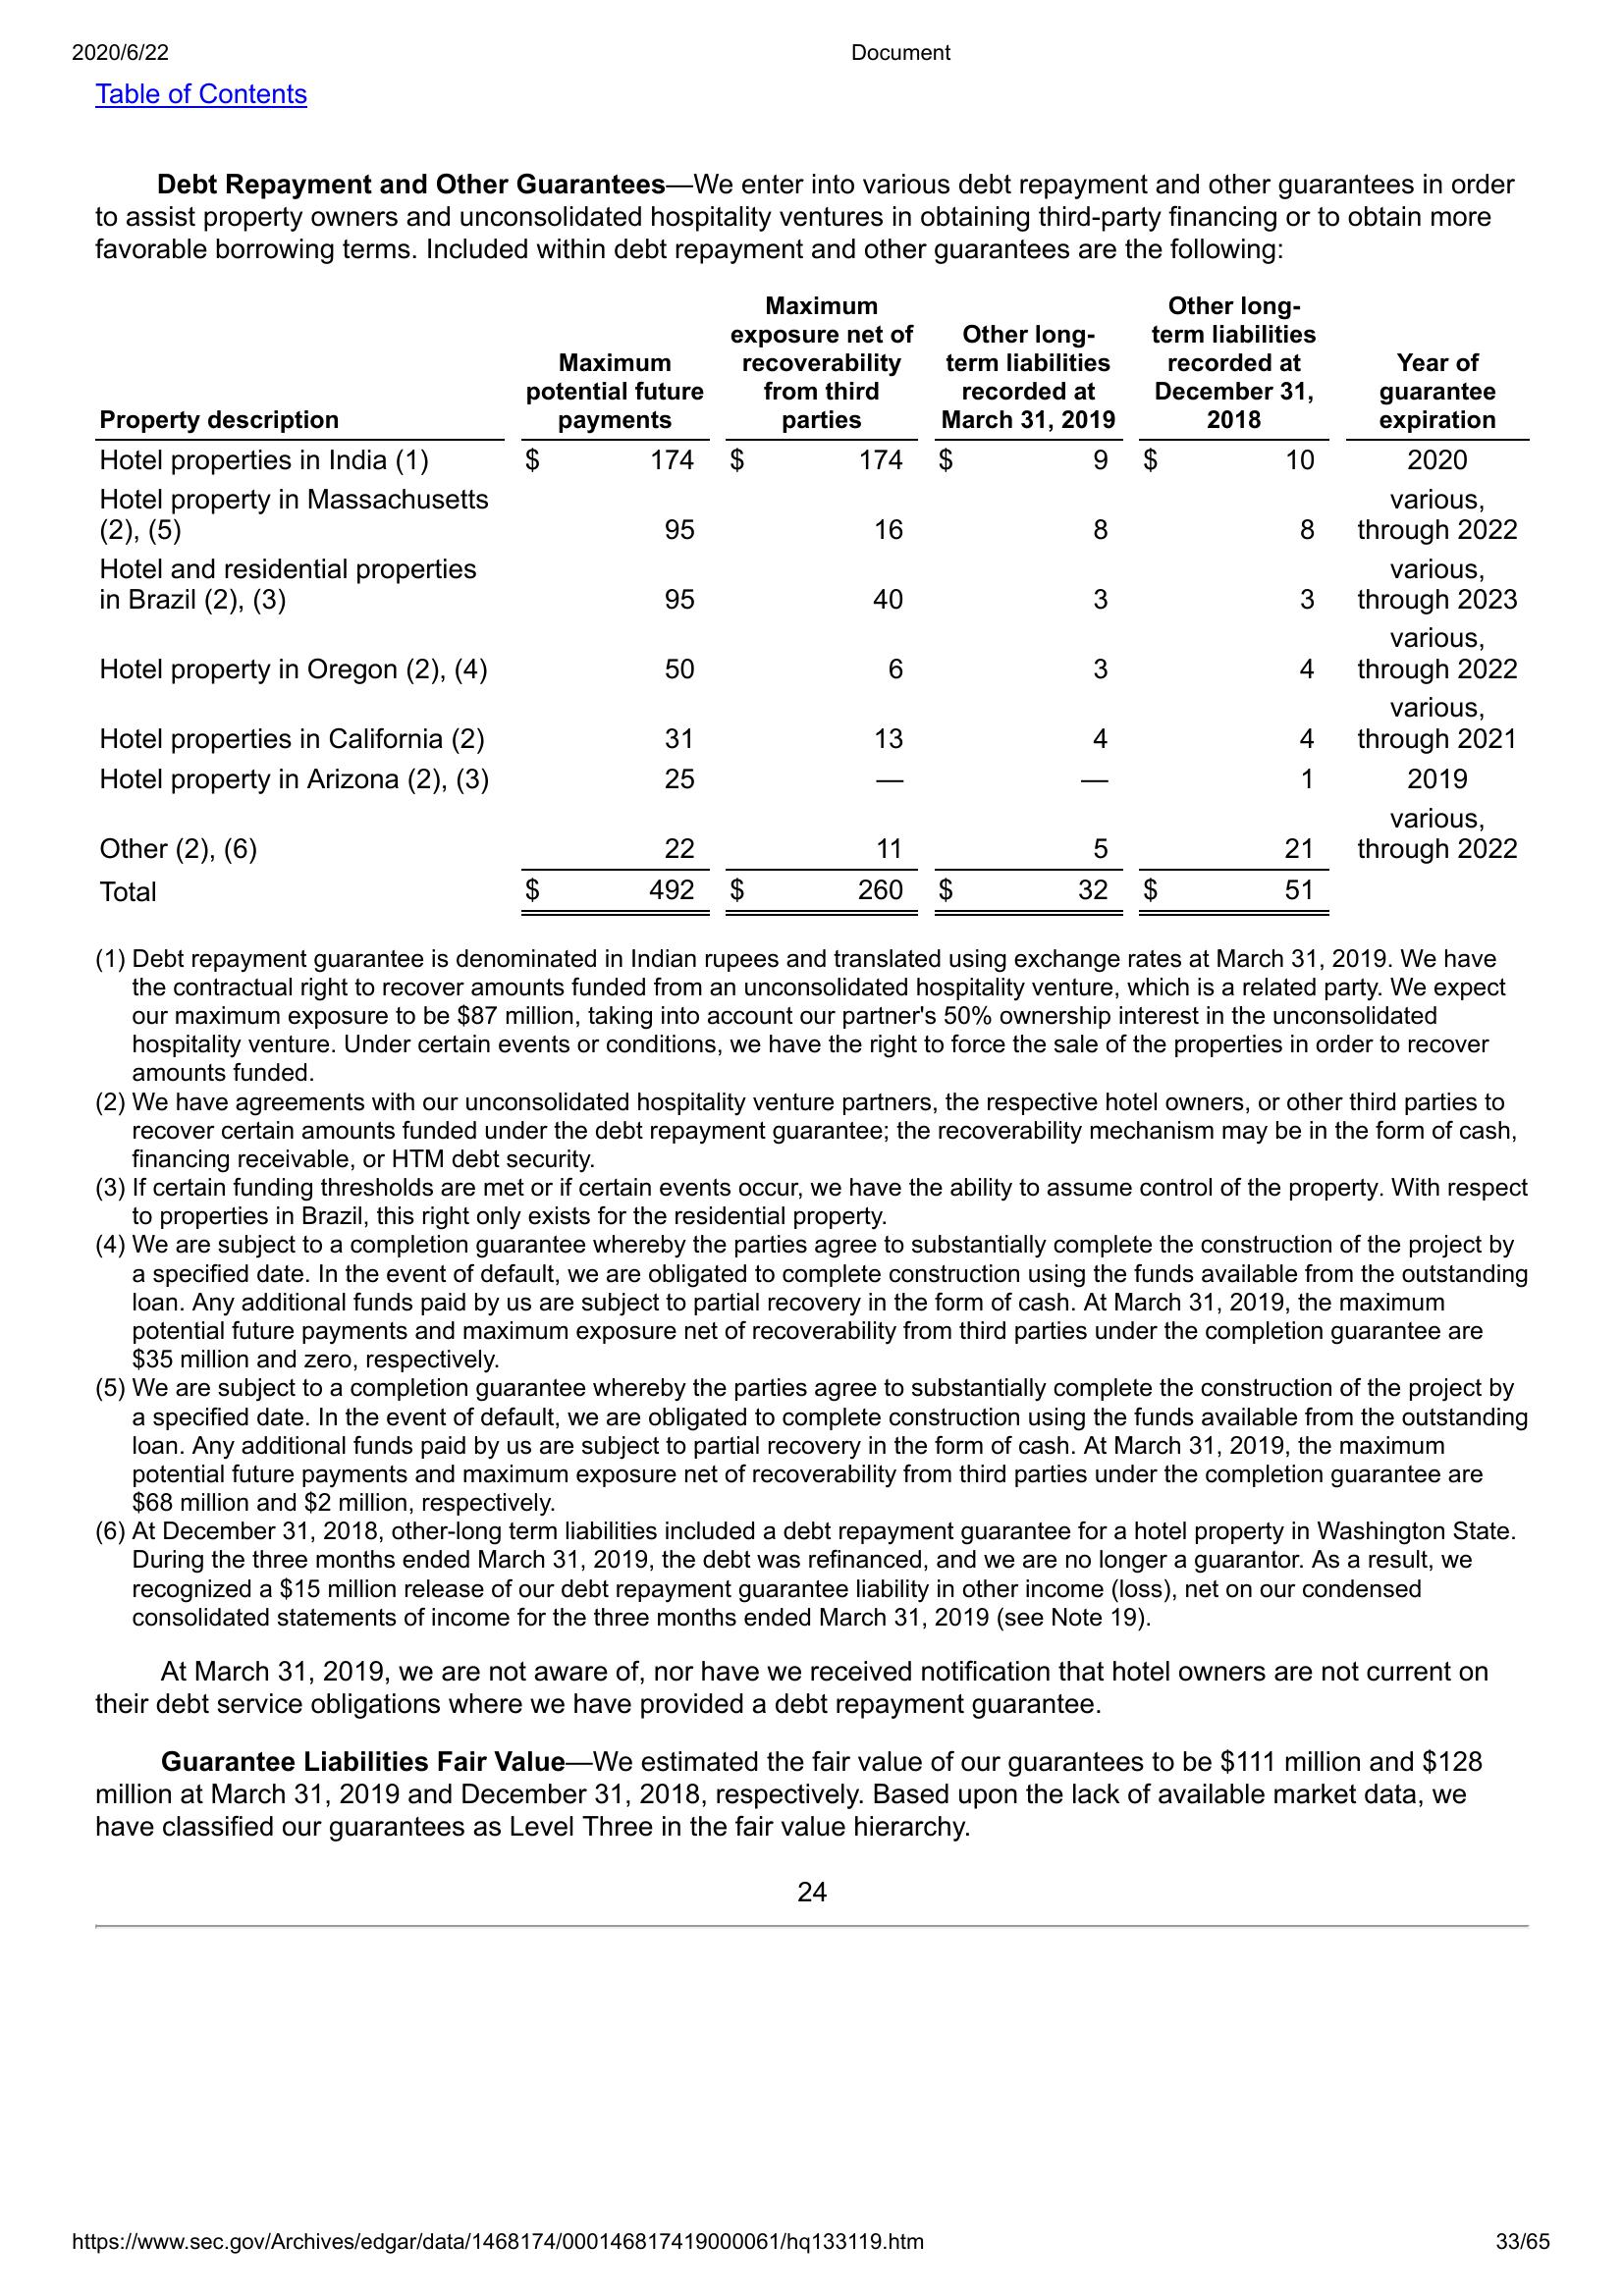table: (84, 286, 1528, 923)
